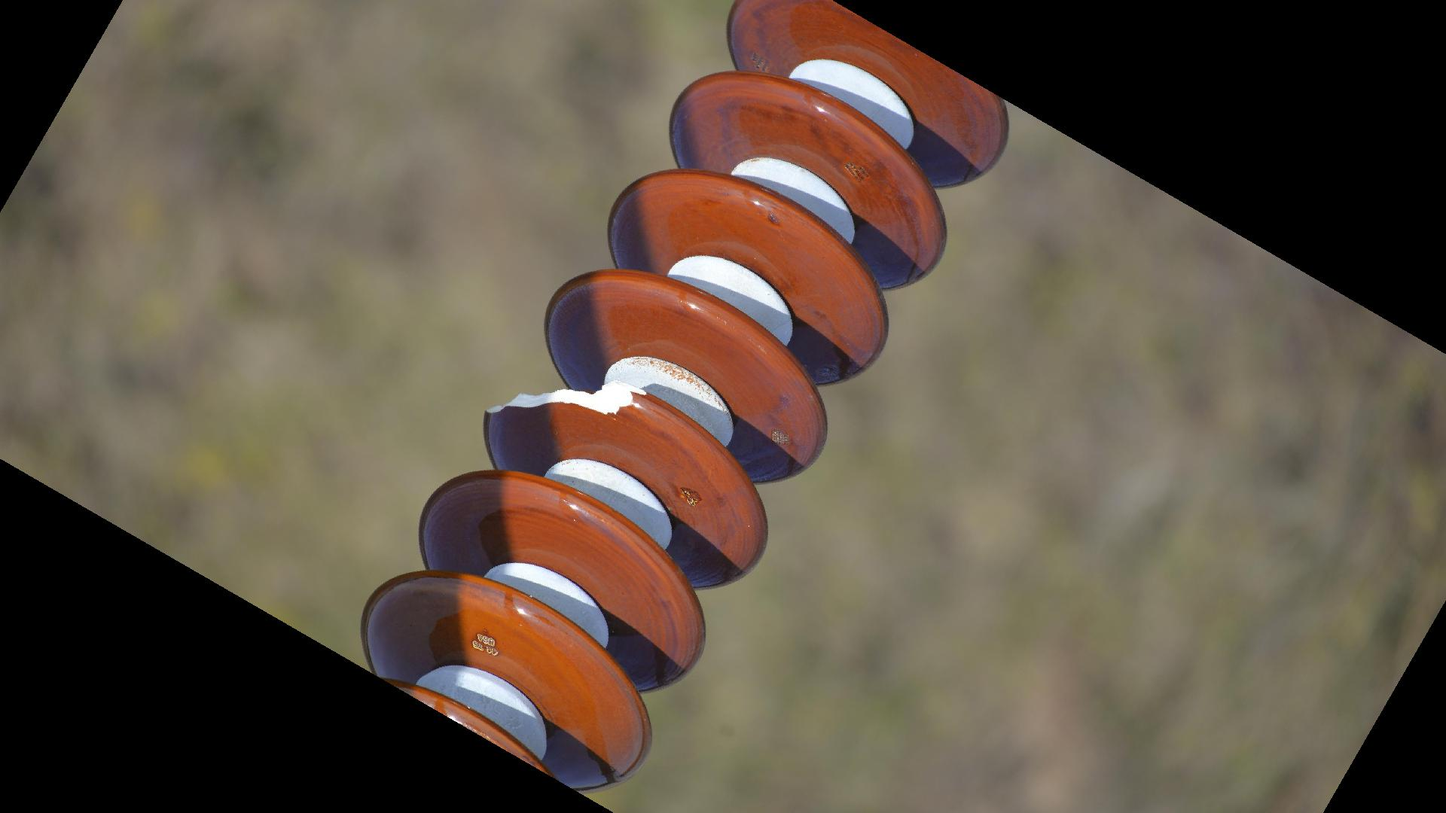insulator: (350, 1, 1020, 800)
insulator_breakage: (478, 375, 658, 430)
